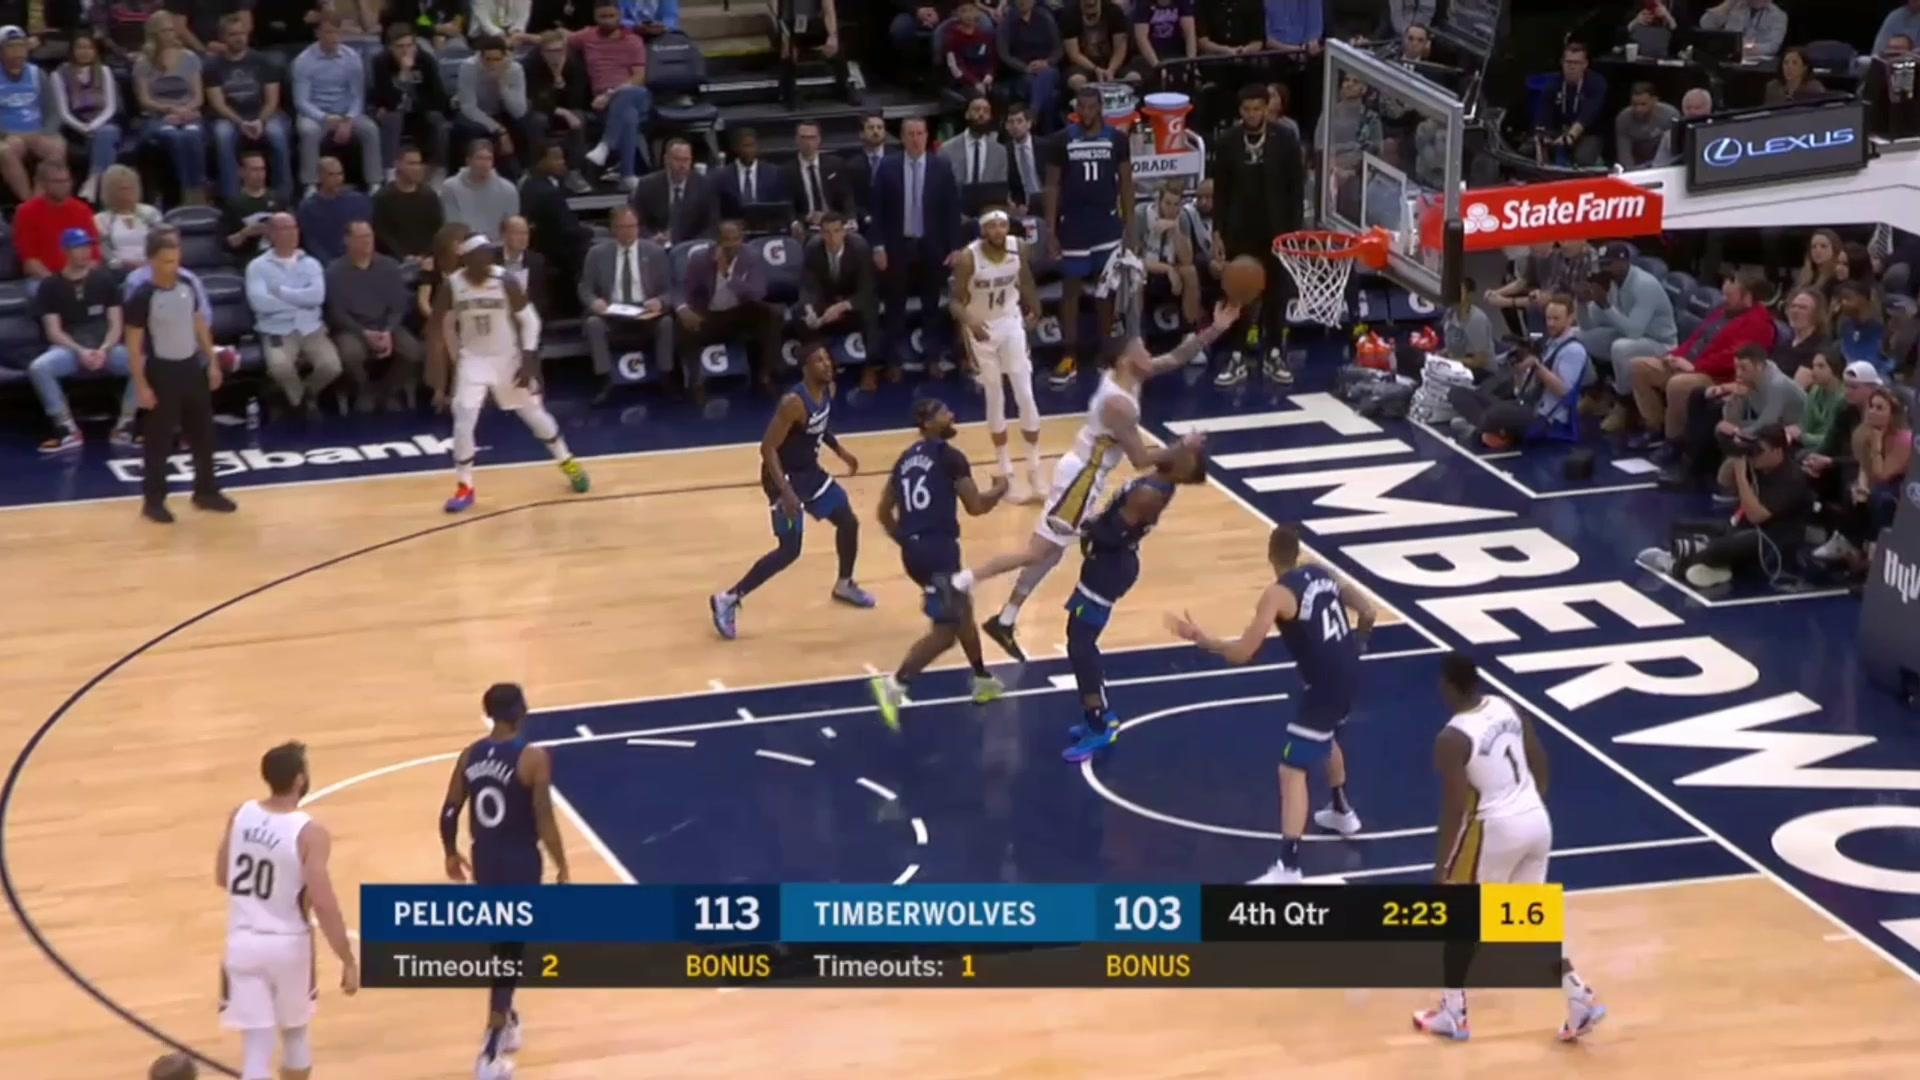foul: (1044, 332, 1193, 732)
